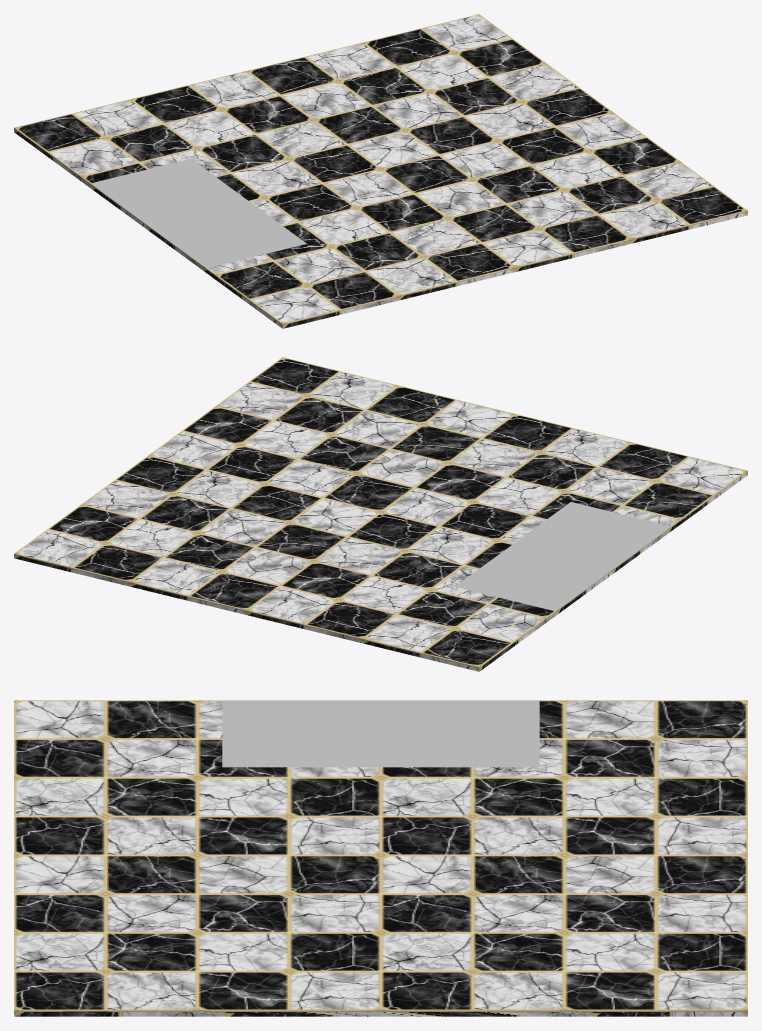
Rendered from Ground_NE.fbx.
The picture shows the model from 3 angles, top to bottom: view 1: azimuth 30°, elevation 25°; view 2: azimuth 150°, elevation 25°; view 3: azimuth 270°, elevation 25°; orthographic projection. The views are drawn at different scales.
Parts seen in each view (by area): view 1: Ground_NE; view 2: Ground_NE; view 3: Ground_NE.
Part boxes in pixels (x1,y1,x2,y2): Ground_NE: (14,14,747,328); Ground_NE: (14,357,747,671); Ground_NE: (14,700,747,1016).
Size of the model in its own units: 24 by 0.2284 by 24.
